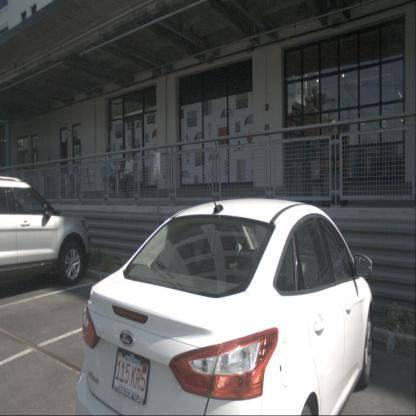human-pedestrian-adult: (101, 148, 119, 198), (119, 150, 134, 199)
vehicle-car: (75, 198, 374, 415), (0, 176, 91, 286)
